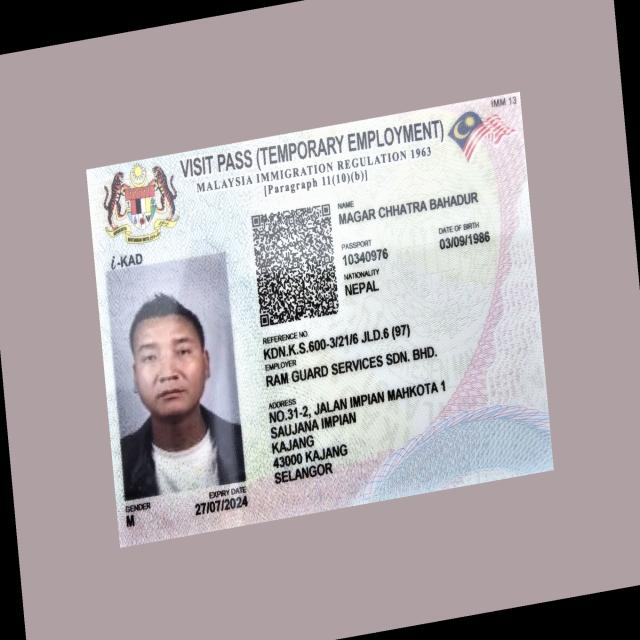ikad-temp: (85, 90, 555, 546)
